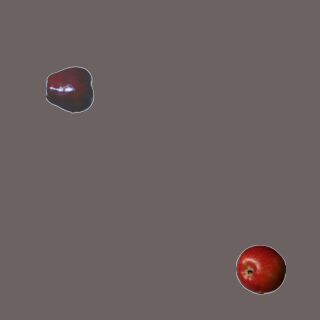Apple Braeburn: (235, 244, 285, 294)
Apple Red Delicious: (45, 64, 95, 114)
